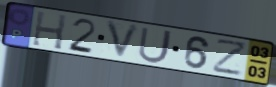2: (67, 17, 98, 56)
6: (182, 35, 212, 70)
H: (31, 9, 69, 51)
U: (137, 25, 175, 65)
V: (104, 19, 143, 62)
Z: (211, 38, 249, 77)
